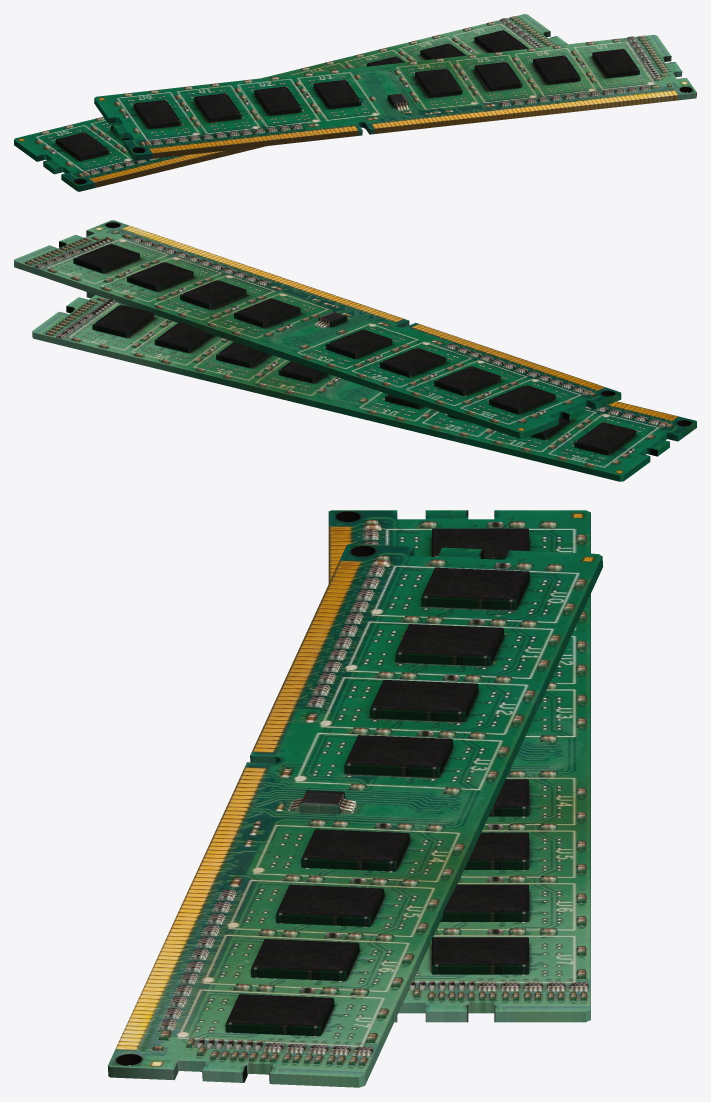
Rendered from RamSticks.glb.
3 renders of one model, top to bottom at view 1: azimuth 30°, elevation 25°; view 2: azimuth 150°, elevation 25°; view 3: azimuth 270°, elevation 25°, orthographic. The views are drawn at different scales.
Parts seen in each view (by area): view 1: RamStick.001, RamStick; view 2: RamStick.001, RamStick; view 3: RamStick.001, RamStick.
Part boxes in pixels (x1,y1,x2,y2): RamStick.001: (94,35,696,160); RamStick: (14,14,567,191); RamStick.001: (14,220,621,438); RamStick: (32,292,696,481); RamStick.001: (108,544,603,1087); RamStick: (328,510,590,1022).
Bounding box in the file's own units: 22.3 × 1.08 × 8.16.
Materials: 1 (1 with a texture image).
